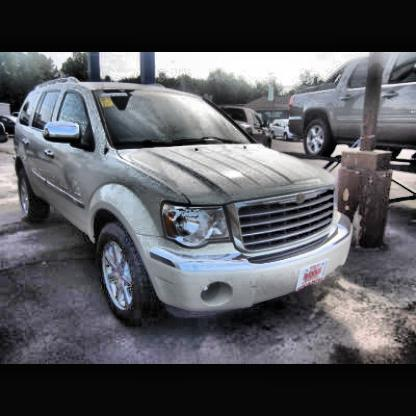Chrysler Aspen SUV 2009: (14, 78, 357, 342)
